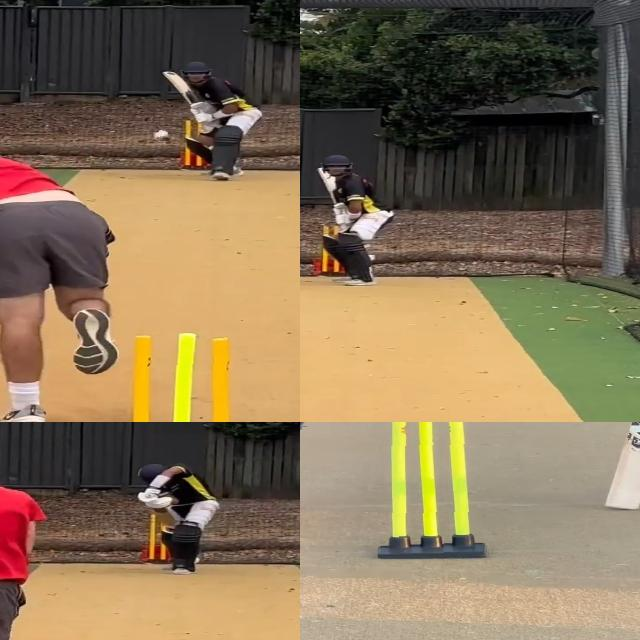Cricket ball: (153, 130, 171, 142)
Stumps: (377, 422, 490, 558), (110, 332, 248, 422)
